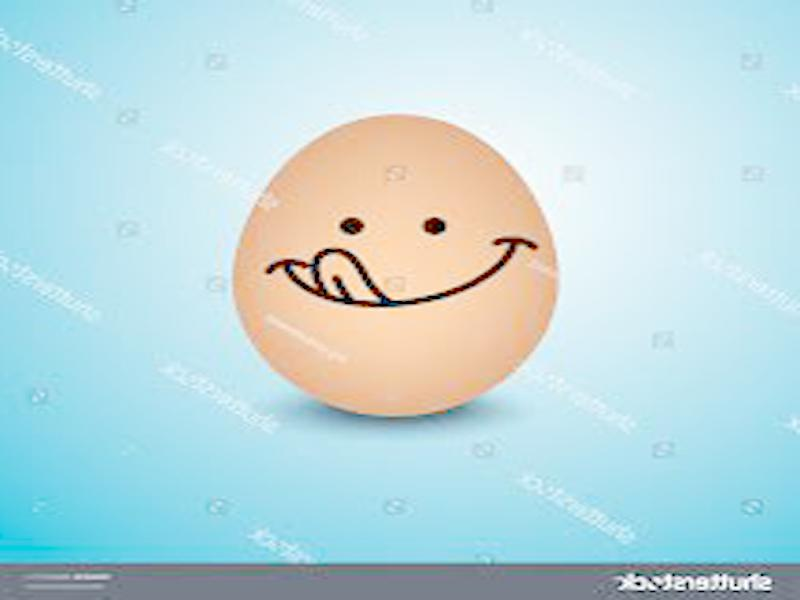Eggs: (231, 114, 559, 416)
